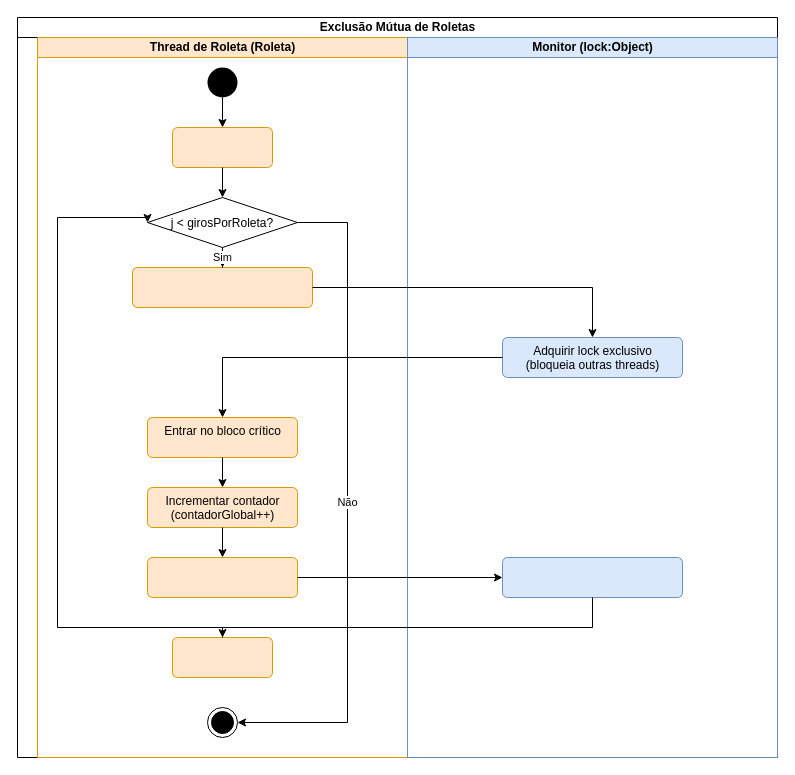
Image size: 795x775. Some labels were removed from this diagram. The shapes that lost their labels are listed below. From the top down, each one's box as (x1, y1, x2, y2) in pixels, then its label:
(172, 126, 272, 168): j = 0
(132, 266, 312, 308): Tentar entrar no bloco (synchronized(lock))
(146, 556, 298, 598): Sair do synchronized
(502, 556, 682, 598): Liberar lock exclusivo (acorda próxima thread)
(172, 636, 272, 678): j = j + 1
